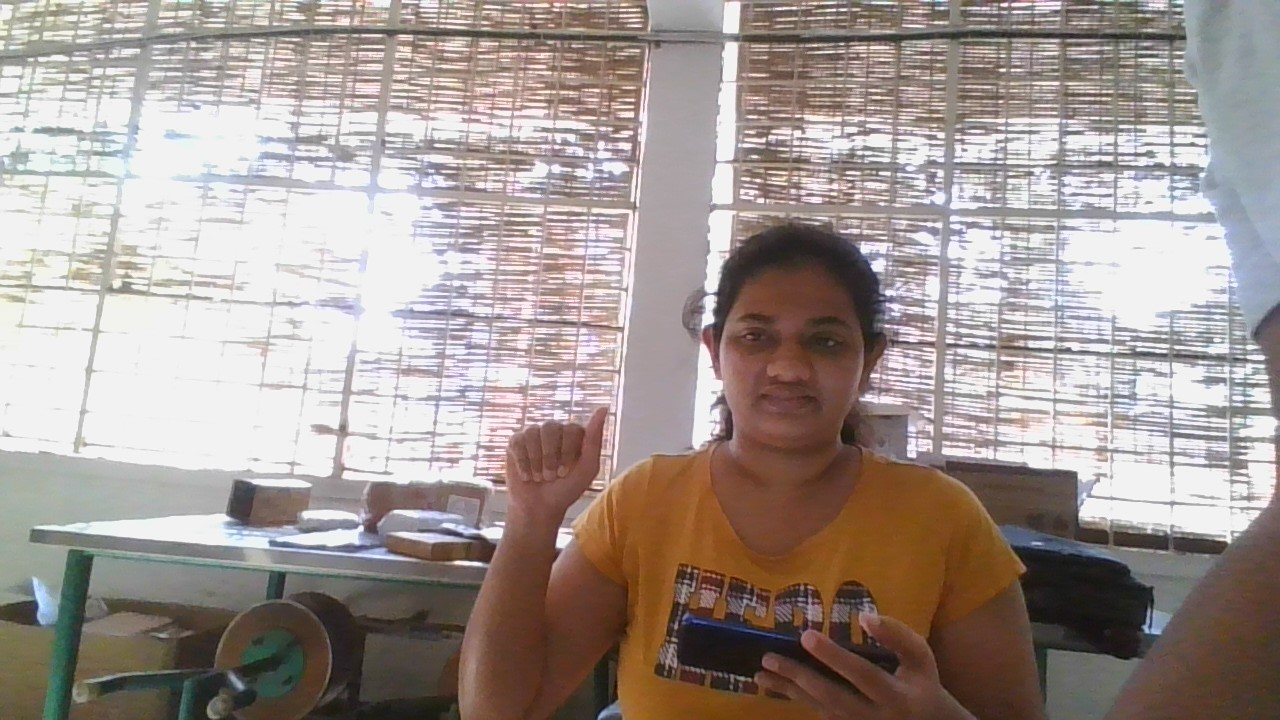a: (483, 402, 623, 514)
